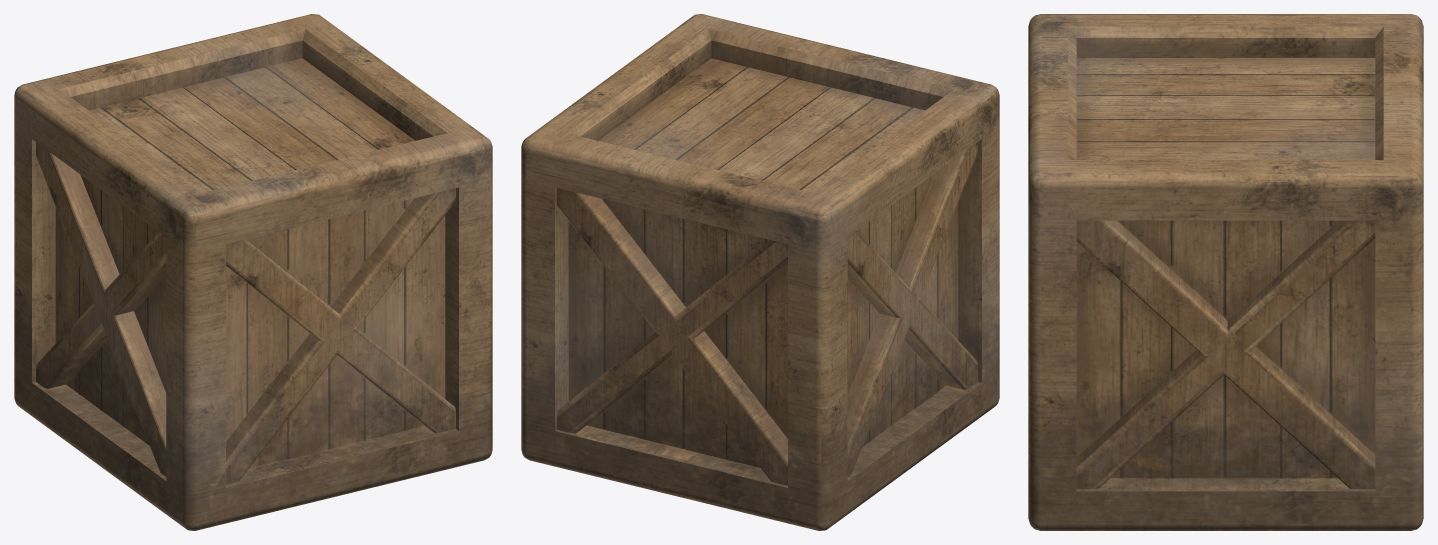
File: crate.obj
3 renders of one model, left to right at view 1: azimuth 30°, elevation 25°; view 2: azimuth 150°, elevation 25°; view 3: azimuth 270°, elevation 25°, orthographic. The views are drawn at different scales.
Visible parts, largest first — view 1: Crate_Plane.005; view 2: Crate_Plane.005; view 3: Crate_Plane.005.
Part boxes in pixels (x1,y1,x2,y2): Crate_Plane.005: (14, 14, 492, 530); Crate_Plane.005: (521, 14, 999, 530); Crate_Plane.005: (1028, 14, 1423, 530).
Size of the model in its own units: 5 by 5 by 5.
1 material, 1 textured.
